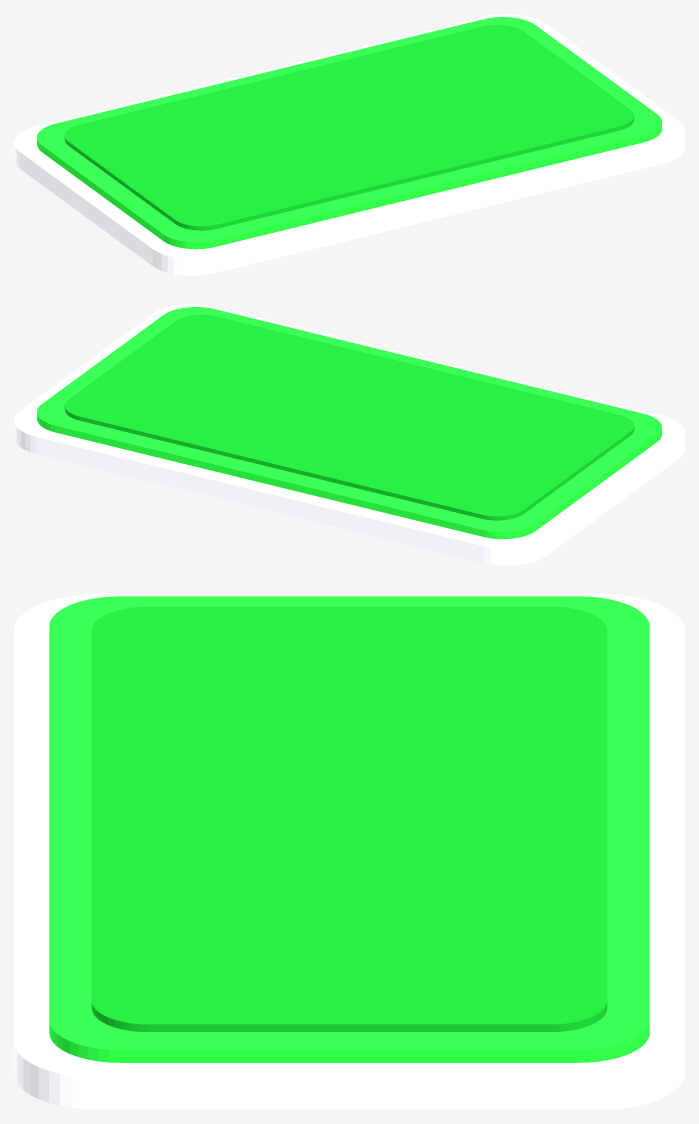
Rendered from MoneyATM_Pad.glb.
3 renders of one model, top to bottom at view 1: azimuth 30°, elevation 25°; view 2: azimuth 150°, elevation 25°; view 3: azimuth 270°, elevation 25°, orthographic. The views are drawn at different scales.
Visible parts, largest first — view 1: geometry_0; view 2: geometry_0; view 3: geometry_0.
Boxes of the visible parts, box(x1,y1,x2,y2) form: geometry_0: box(14, 14, 684, 275); geometry_0: box(14, 304, 684, 565); geometry_0: box(14, 594, 684, 1109).
Bounding box in the file's own units: 1.62 × 0.082 × 0.95.
1 material, 1 textured.
